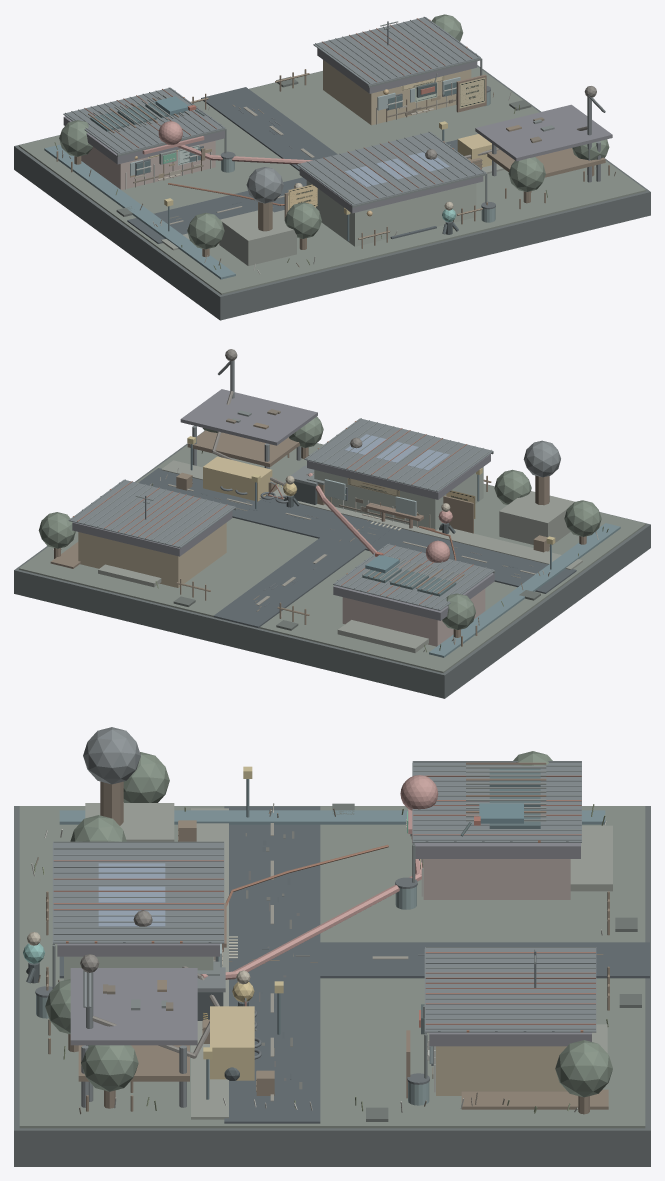
The model's file is yudae_p_clinic_detailed.glb.
The picture shows the model from 3 angles, top to bottom: view 1: azimuth 30°, elevation 25°; view 2: azimuth 150°, elevation 25°; view 3: azimuth 270°, elevation 25°; orthographic projection. The views are drawn at different scales.
Parts seen in each view (by area): view 1: world; view 2: world; view 3: world.
Part boxes in pixels (left/top/right/bottom): world: left=14, top=14, right=650, bottom=320; world: left=14, top=349, right=650, bottom=698; world: left=14, top=727, right=650, bottom=1166.
Size of the model in its own units: 3.45 by 0.918 by 2.86.
8 materials, 8 textured.
